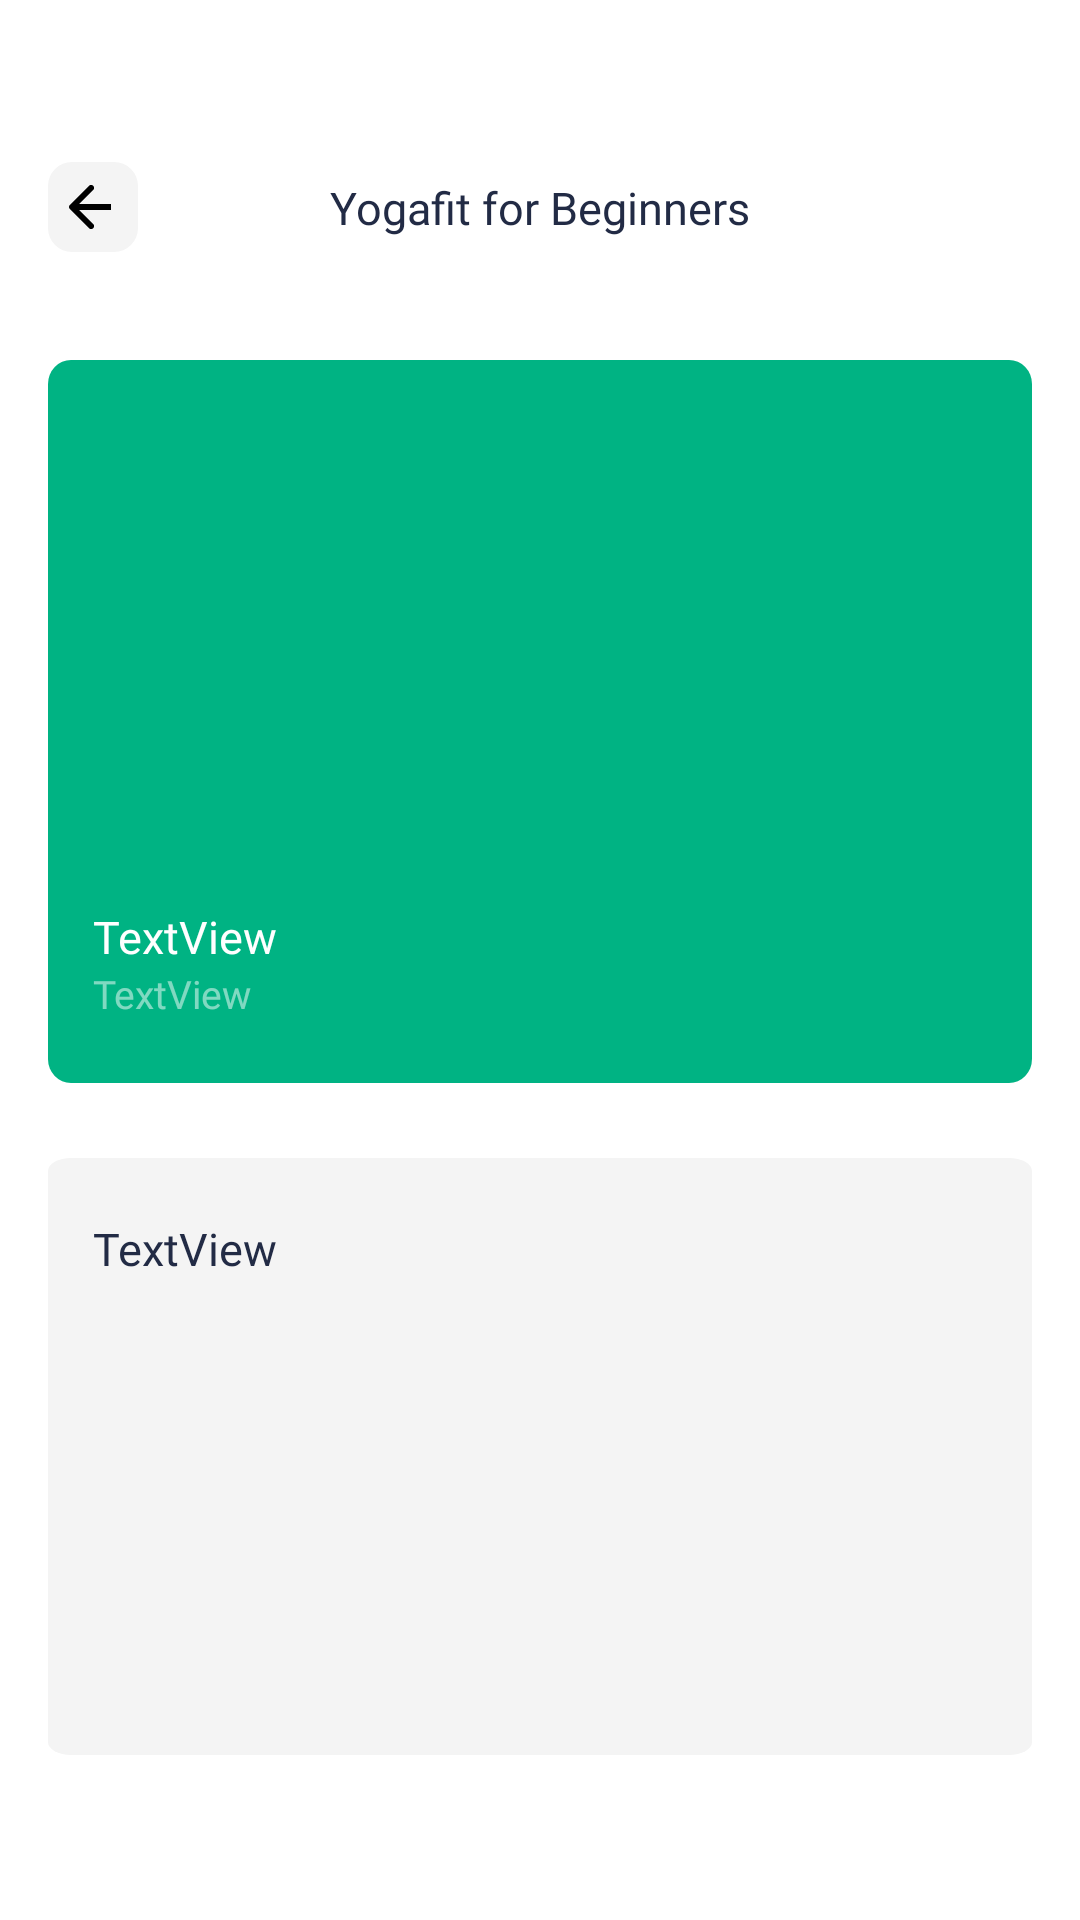

Icons on this 1080w x 1920h Android screen, each with the point to tap as point (x, y):
back: point (93, 207)
